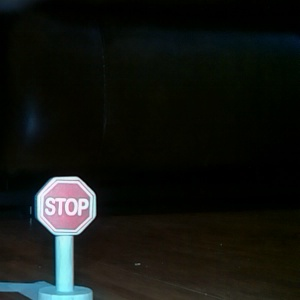stop sign: (32, 174, 99, 300)
